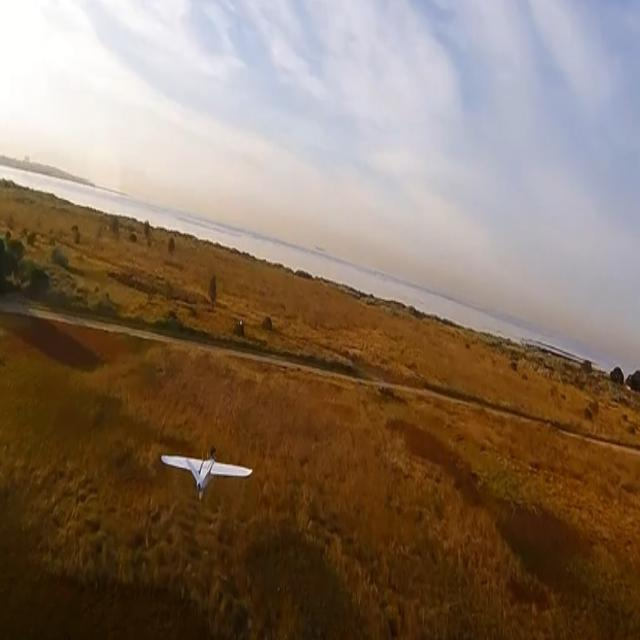iha: (192, 443, 221, 503)
